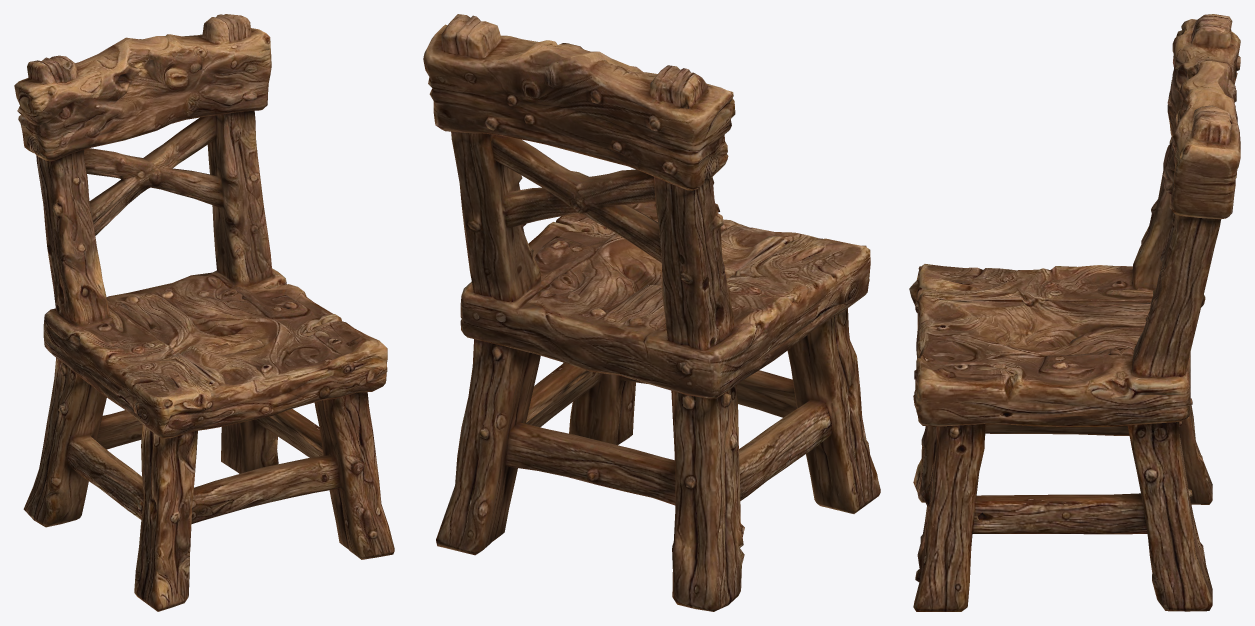
File: chair.glb
3 renders of one model, left to right at view 1: azimuth 30°, elevation 25°; view 2: azimuth 150°, elevation 25°; view 3: azimuth 270°, elevation 25°, orthographic. The views are drawn at different scales.
Parts seen in each view (by area): view 1: tripo_node_43dba3e1-2f22-4dcb-b724-319960d4cf21; view 2: tripo_node_43dba3e1-2f22-4dcb-b724-319960d4cf21; view 3: tripo_node_43dba3e1-2f22-4dcb-b724-319960d4cf21.
Boxes of the visible parts, box(x1,y1,x2,y2) form: tripo_node_43dba3e1-2f22-4dcb-b724-319960d4cf21: box(14, 14, 394, 611); tripo_node_43dba3e1-2f22-4dcb-b724-319960d4cf21: box(423, 14, 880, 611); tripo_node_43dba3e1-2f22-4dcb-b724-319960d4cf21: box(909, 14, 1240, 611).
Size of the model in its own units: 0.5559 by 0.9762 by 0.6056.
1 material, 1 textured.
